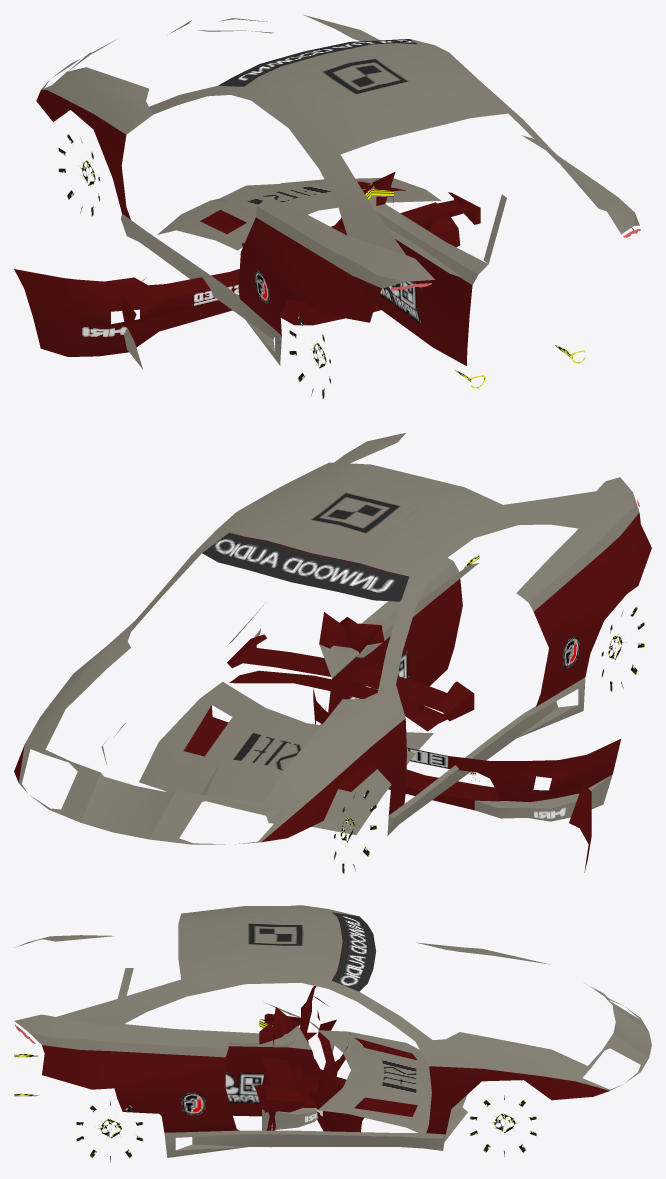
Rendered from car-SPRT_Car7.glb.
3 views of the same model, one above another, from view 1: azimuth 30°, elevation 25°; view 2: azimuth 150°, elevation 25°; view 3: azimuth 270°, elevation 25° (orthographic). The views are drawn at different scales.
Visible parts, largest first — view 1: SPRT_Car7; view 2: SPRT_Car7; view 3: SPRT_Car7.
Part boxes in pixels (box(x1,y1,x2,y2)): SPRT_Car7: box(14, 15, 640, 399); SPRT_Car7: box(14, 433, 651, 874); SPRT_Car7: box(14, 905, 651, 1162).
Bounding box in the file's own units: 2.69 × 1.43 × 4.19.
19 materials, 19 textured.
